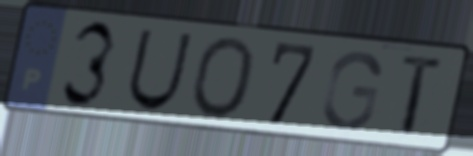3: (57, 19, 127, 111)
7: (267, 39, 317, 127)
G: (319, 49, 385, 133)
O: (186, 34, 258, 122)
T: (398, 51, 449, 141)
U: (124, 25, 197, 113)
